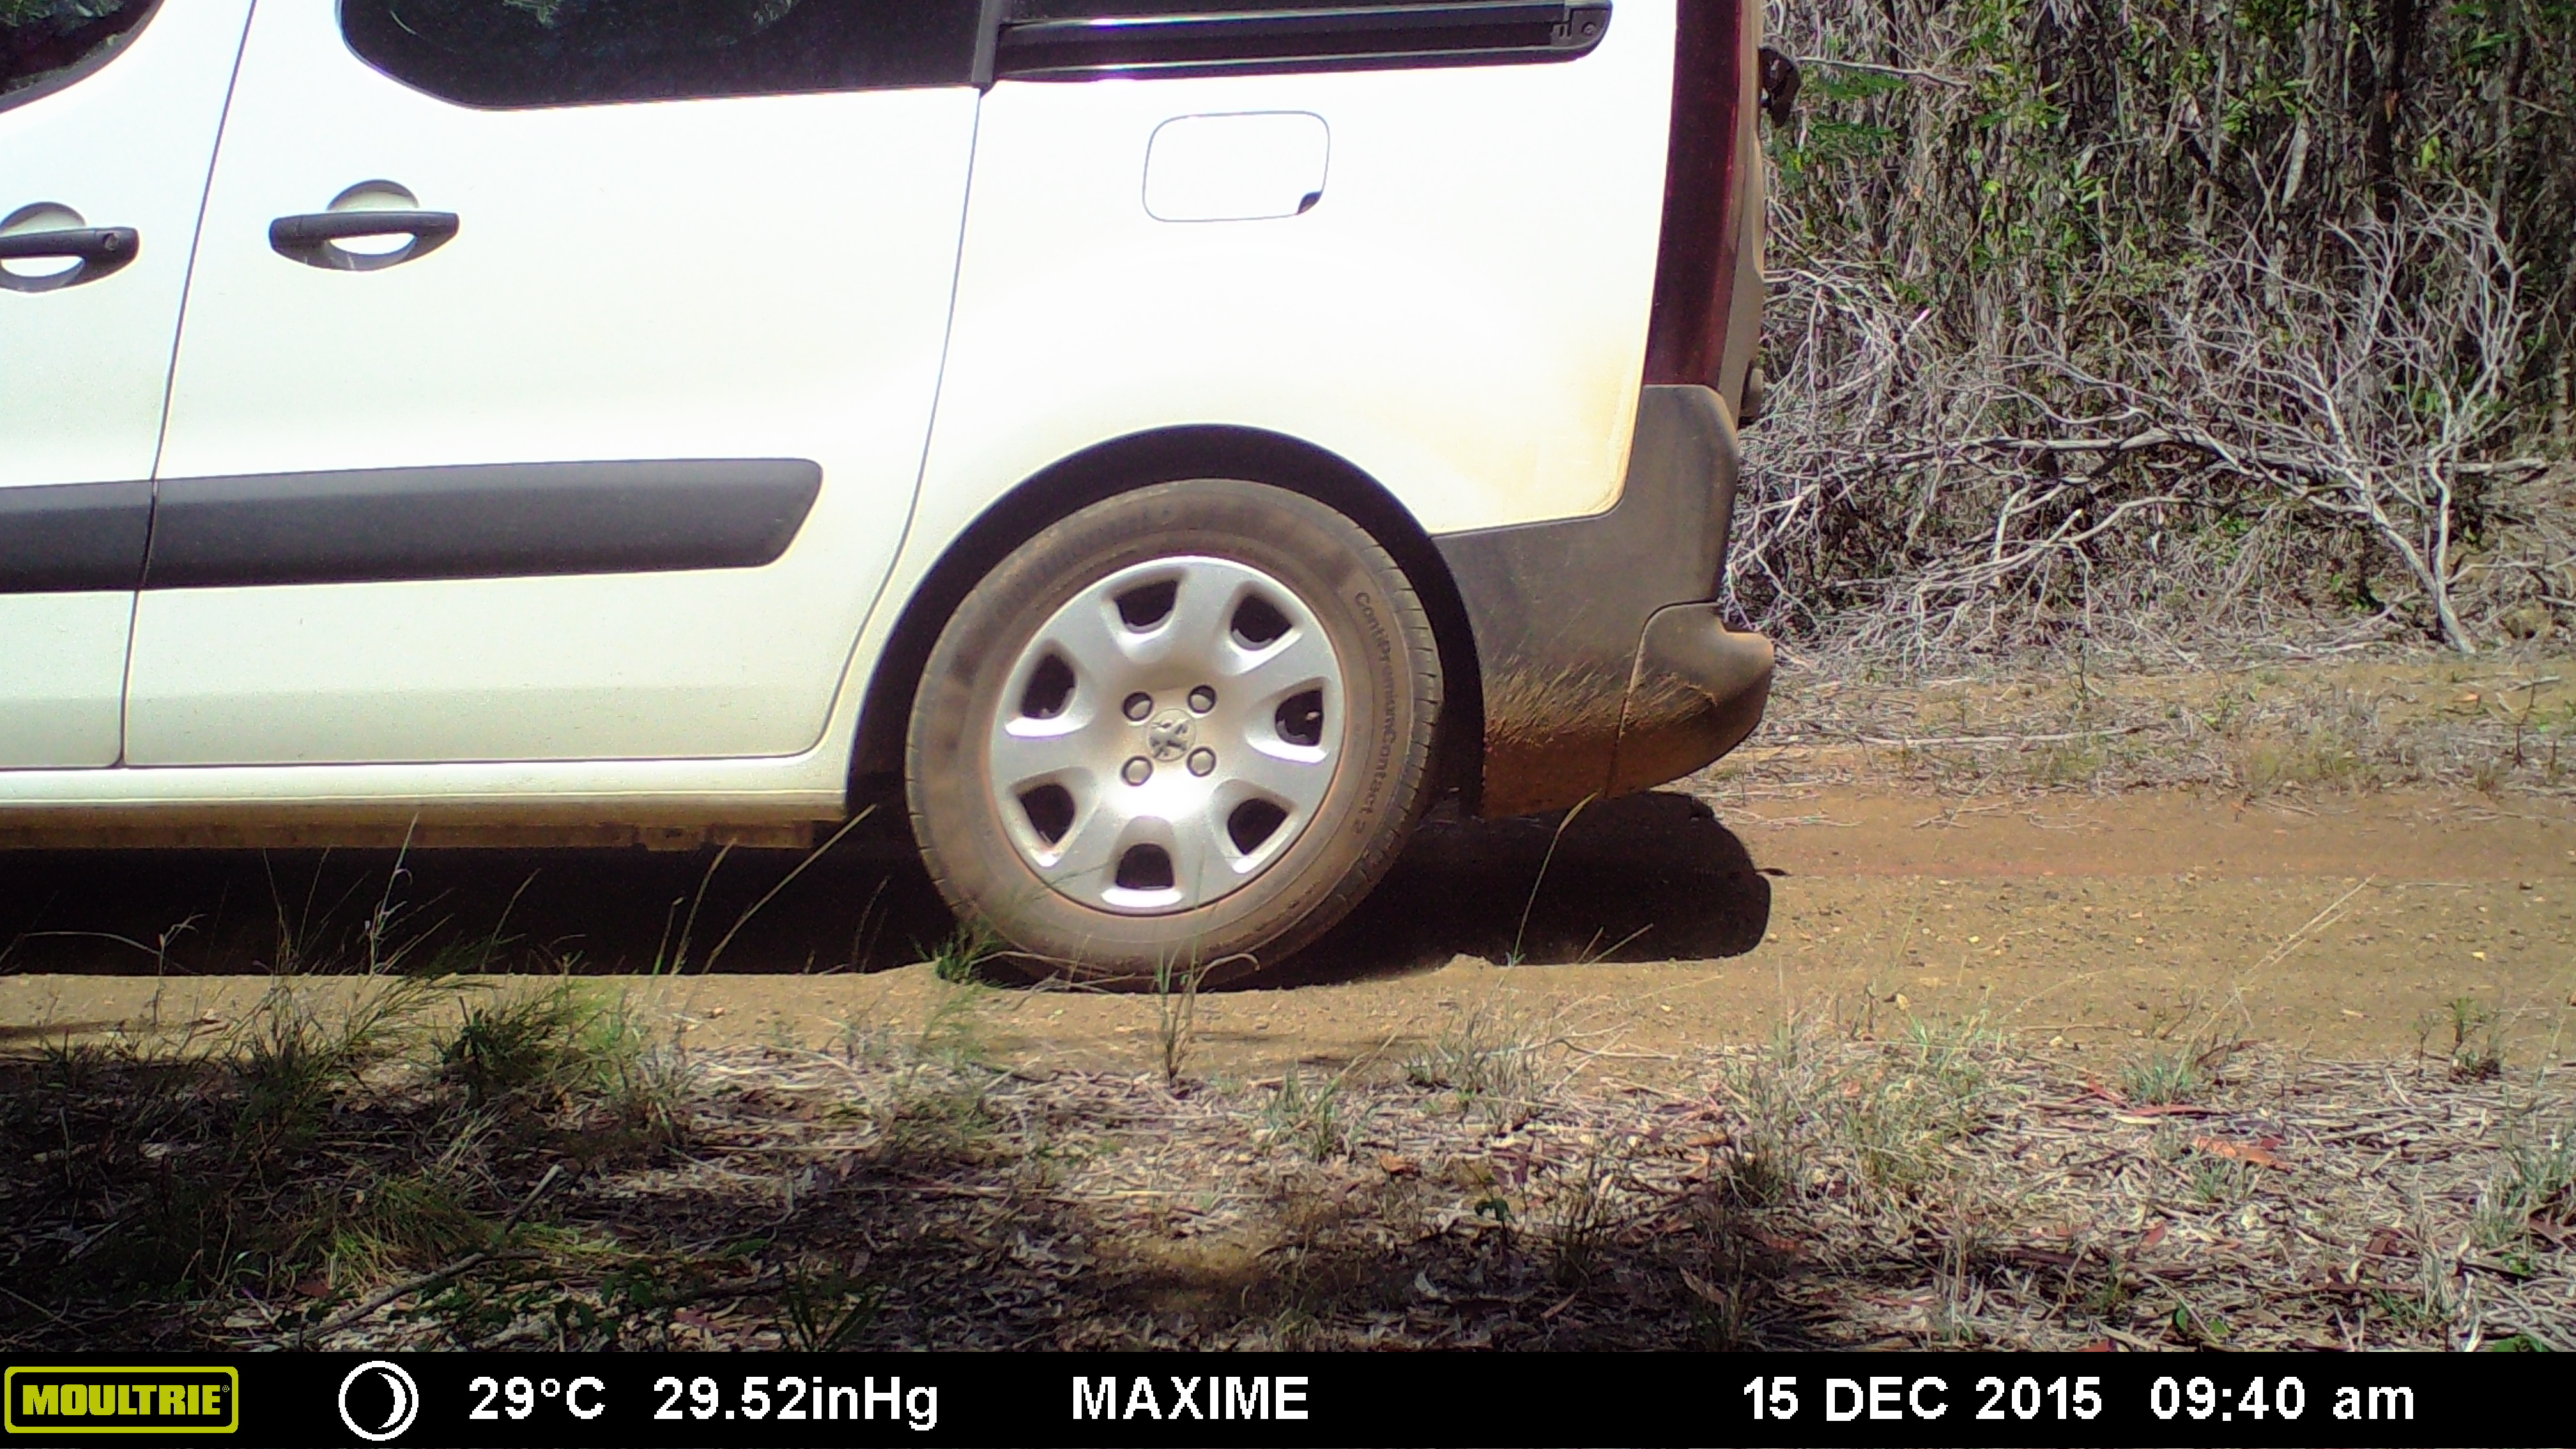Car: (4, 2, 1805, 1010)
